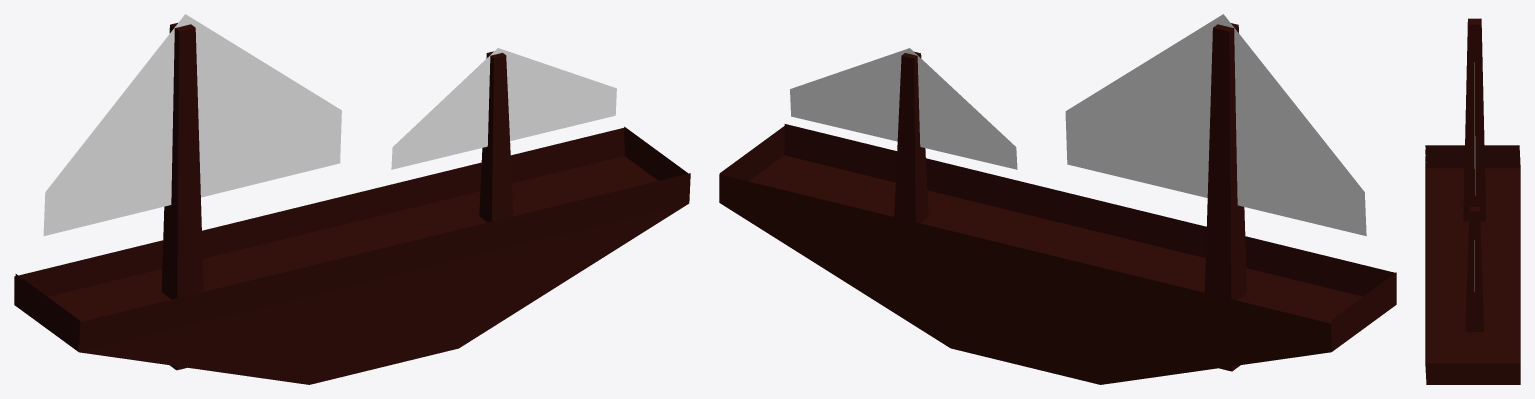
Rendered from warship1f.obj.
3 views of the same model, side by side, from view 1: azimuth 30°, elevation 25°; view 2: azimuth 150°, elevation 25°; view 3: azimuth 270°, elevation 25° (orthographic). The views are drawn at different scales.
Visible parts, largest first — view 1: Cube, Plane.001, Plane, Cube.002, Cube.001; view 2: Cube, Plane.001, Plane, Cube.002, Cube.001; view 3: Cube, Cube.002, Cube.001, Plane.001.
Boxes of the visible parts, x1,y1,x2,y2 form: Cube: (14, 126, 690, 384); Plane.001: (43, 14, 341, 235); Plane: (391, 48, 616, 169); Cube.002: (161, 23, 203, 370); Cube.001: (479, 51, 513, 222); Cube: (719, 124, 1396, 384); Plane.001: (1065, 14, 1366, 236); Plane: (790, 48, 1017, 169); Cube.002: (1204, 23, 1246, 371); Cube.001: (894, 51, 928, 223); Cube: (1425, 145, 1520, 384); Cube.002: (1463, 18, 1485, 221); Cube.001: (1465, 206, 1483, 331); Plane.001: (1474, 62, 1475, 195).
Size of the model in its own units: 14.46 by 8.31 by 2.68.
